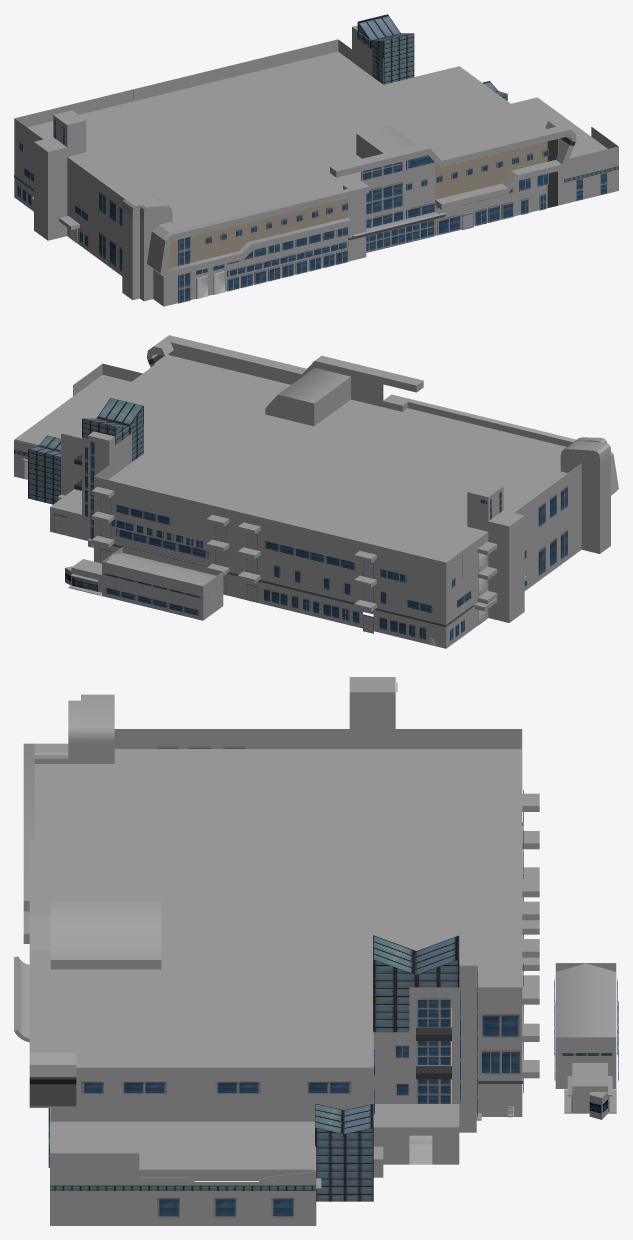
Rendered from soubrain_SLD.glb.
The picture shows the model from 3 angles, top to bottom: view 1: azimuth 30°, elevation 25°; view 2: azimuth 150°, elevation 25°; view 3: azimuth 270°, elevation 25°; orthographic projection. The views are drawn at different scales.
Visible parts, largest first — view 1: SLD (1), SLD window door; view 2: SLD (1), SLD window door; view 3: SLD (1), SLD window door.
Boxes of the visible parts, bbox=[...] form: SLD (1): bbox=[14, 14, 618, 306]; SLD window door: bbox=[14, 119, 618, 303]; SLD (1): bbox=[14, 335, 618, 648]; SLD window door: bbox=[14, 384, 567, 646]; SLD (1): bbox=[14, 677, 616, 1225]; SLD window door: bbox=[48, 682, 618, 1217].
Size of the model in its own units: 158 by 35.75 by 106.
Materials: 14 (10 with a texture image).
